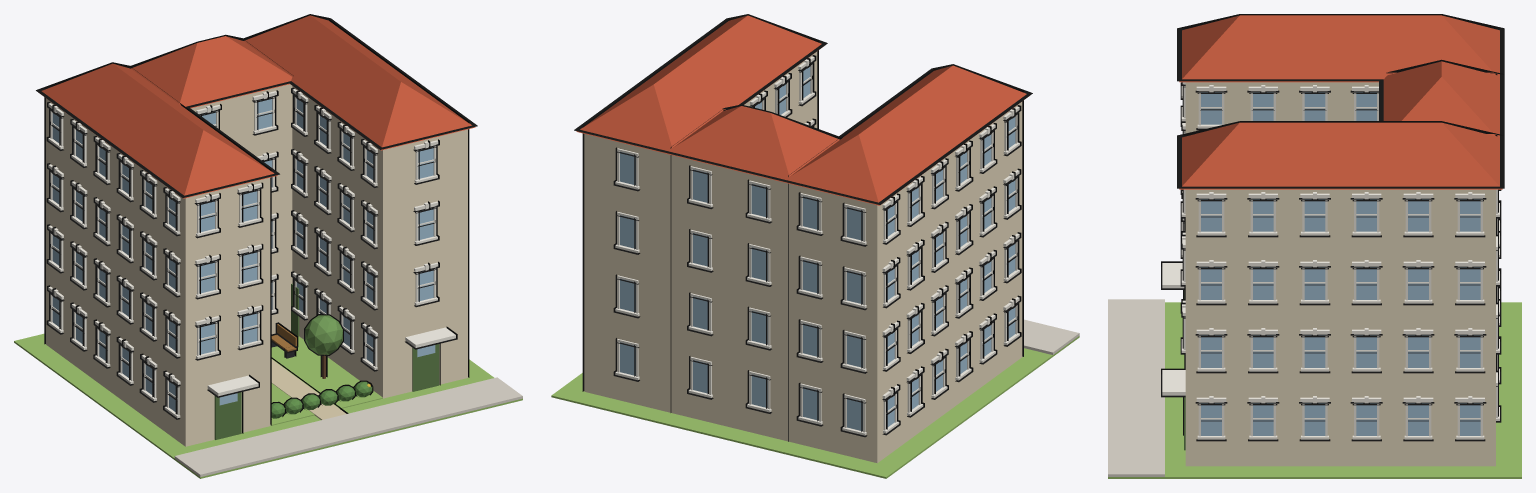
The model's file is Konut_avlulu_blok_3.fbx.
3 renders of one model, left to right at view 1: azimuth 30°, elevation 25°; view 2: azimuth 150°, elevation 25°; view 3: azimuth 270°, elevation 25°, orthographic. The views are drawn at different scales.
Visible parts, largest first — view 1: Konut_avlulu_blok_3; view 2: Konut_avlulu_blok_3; view 3: Konut_avlulu_blok_3.
Part boxes in pixels (left/top/right/bottom): Konut_avlulu_blok_3: left=14, top=14, right=522, bottom=478; Konut_avlulu_blok_3: left=551, top=14, right=1079, bottom=478; Konut_avlulu_blok_3: left=1108, top=14, right=1521, bottom=478.
Bounding box in the file's own units: 16 × 13.81 × 16.
